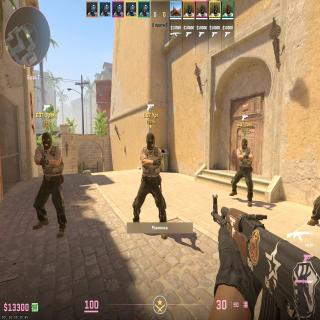T-Body: (34, 132, 64, 234), (140, 132, 164, 238), (236, 138, 254, 206)
T-Head: (42, 132, 52, 149), (146, 132, 155, 149), (242, 139, 248, 149)
